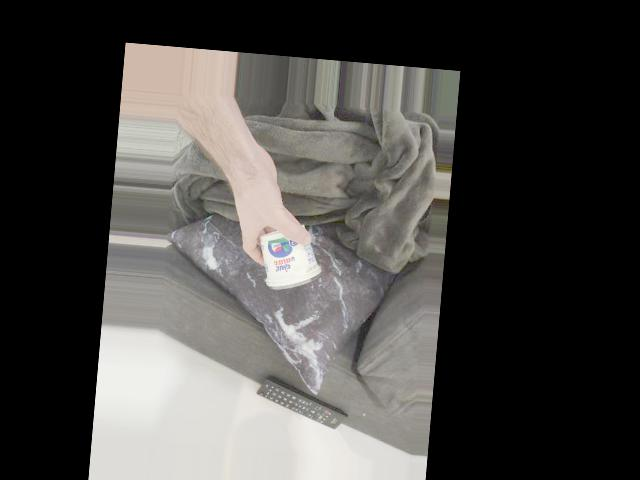cotage: (247, 212, 328, 300)
